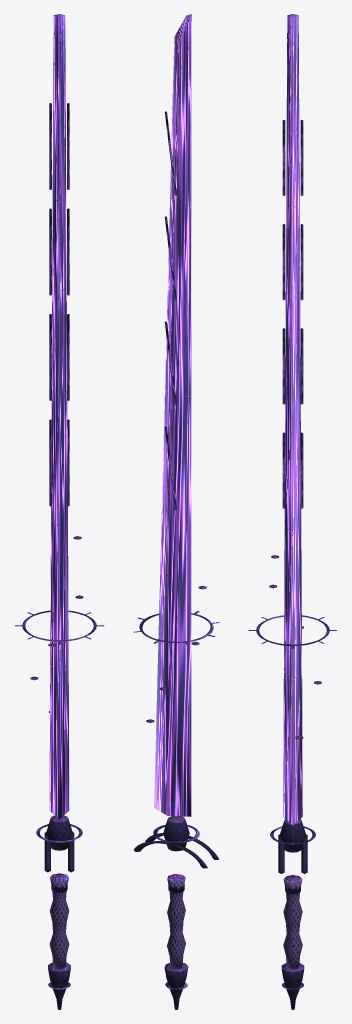
File: sword_12_archmage_singularity.glb
3 renders of one model, left to right at view 1: azimuth 90°, elevation 25°; view 2: azimuth 150°, elevation 25°; view 3: azimuth 270°, elevation 25°, orthographic.
Parts seen in each view (by area): view 1: Blade_ArchmageSingularity, Facet_SingularityRunes, Grip_ArchmageWrap, Singularity_Orb, Pommel_SingularityBead, Guard_SingularityCrescent, Ring_ArcaneRunes; view 2: Blade_ArchmageSingularity, Grip_ArchmageWrap, Facet_SingularityRunes, Singularity_Orb, Pommel_SingularityBead, Guard_SingularityCrescent, Ring_ArcaneRunes; view 3: Blade_ArchmageSingularity, Facet_SingularityRunes, Grip_ArchmageWrap, Singularity_Orb, Pommel_SingularityBead, Guard_SingularityCrescent, Ring_ArcaneRunes.
Boxes of the visible parts, x1,y1,x2,y2 form: Blade_ArchmageSingularity: (49, 14, 69, 819); Facet_SingularityRunes: (49, 103, 69, 506); Grip_ArchmageWrap: (49, 873, 69, 969); Singularity_Orb: (36, 815, 82, 850); Pommel_SingularityBead: (48, 962, 70, 1009); Guard_SingularityCrescent: (44, 832, 74, 872); Ring_ArcaneRunes: (14, 610, 104, 644); Blade_ArchmageSingularity: (154, 14, 191, 816); Grip_ArchmageWrap: (167, 874, 185, 969); Facet_SingularityRunes: (164, 111, 176, 510); Singularity_Orb: (153, 816, 199, 851); Pommel_SingularityBead: (164, 963, 188, 1009); Guard_SingularityCrescent: (134, 833, 219, 868); Ring_ArcaneRunes: (133, 611, 219, 645); Blade_ArchmageSingularity: (283, 14, 302, 825); Facet_SingularityRunes: (282, 120, 303, 508); Grip_ArchmageWrap: (283, 875, 302, 969); Singularity_Orb: (270, 819, 315, 852); Pommel_SingularityBead: (281, 963, 304, 1009); Guard_SingularityCrescent: (278, 834, 307, 873); Ring_ArcaneRunes: (248, 615, 337, 648).
Bounding box in the file's own units: 0.2131 × 2.6 × 0.2131.
1 material, 1 textured.
